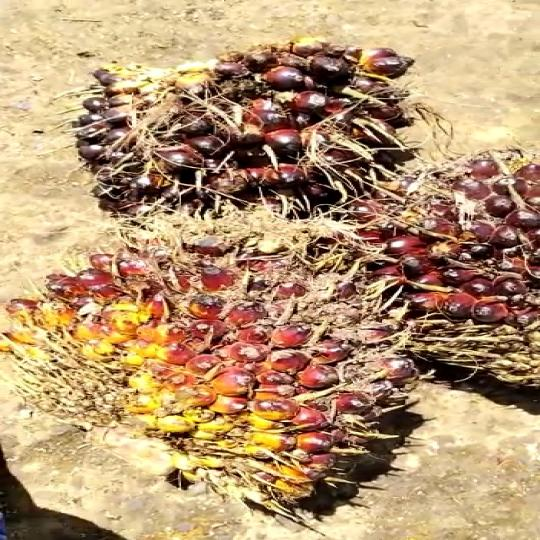kurang masak: (0, 221, 445, 528), (63, 29, 393, 221), (350, 133, 540, 401)
